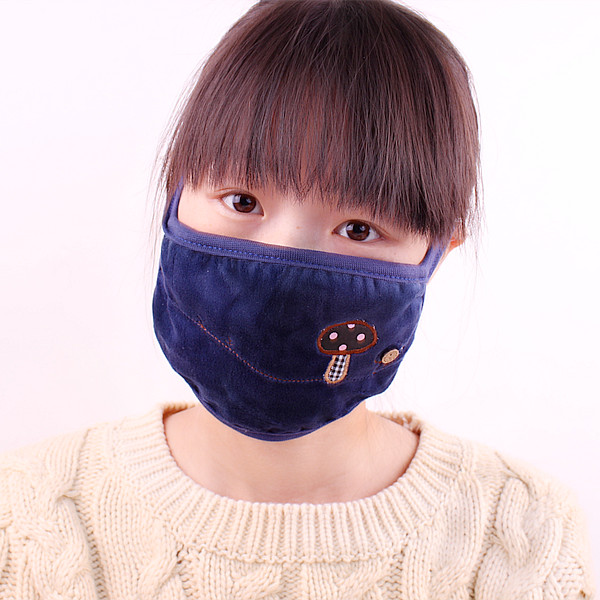face_mask: (178, 91, 435, 405)
